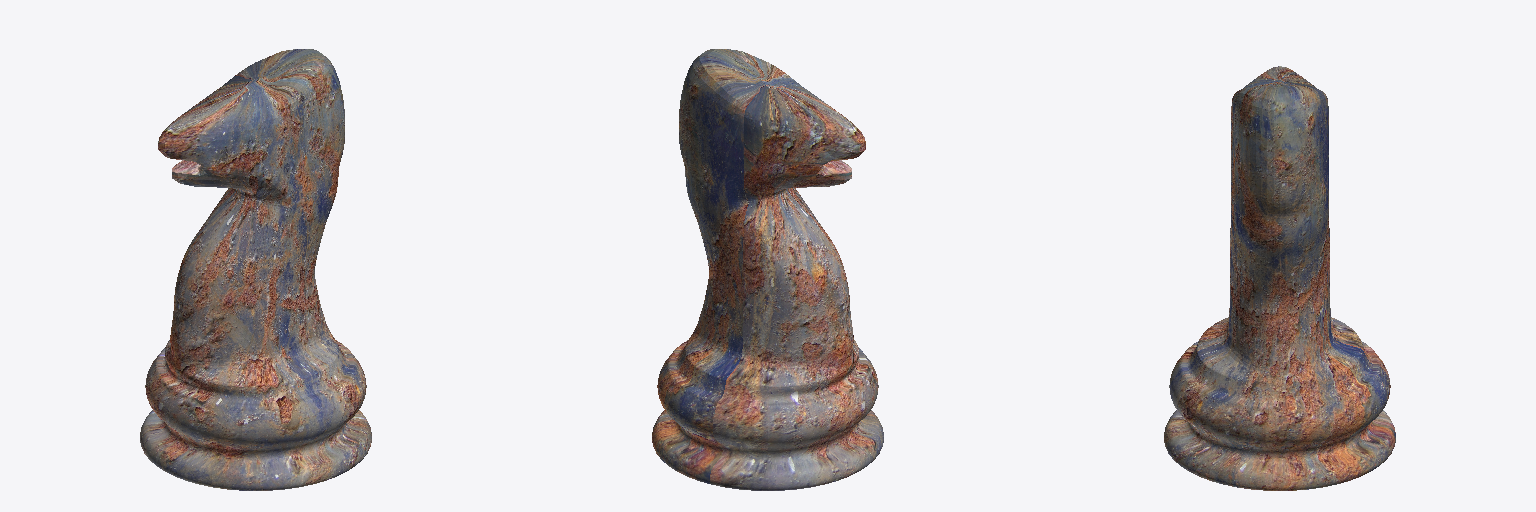
3 renders of one model, left to right at view 1: azimuth 30°, elevation 25°; view 2: azimuth 150°, elevation 25°; view 3: azimuth 270°, elevation 25°, orthographic.
Parts seen in each view (by area): view 1: mesh01; view 2: mesh01; view 3: mesh01.
Boxes of the visible parts, <box> form: mesh01: <box>140,49,371,490</box>; mesh01: <box>652,49,883,490</box>; mesh01: <box>1164,66,1395,490</box>.
Size of the model in its own units: 11.28 by 20.35 by 11.28.
1 materials, 1 textured.